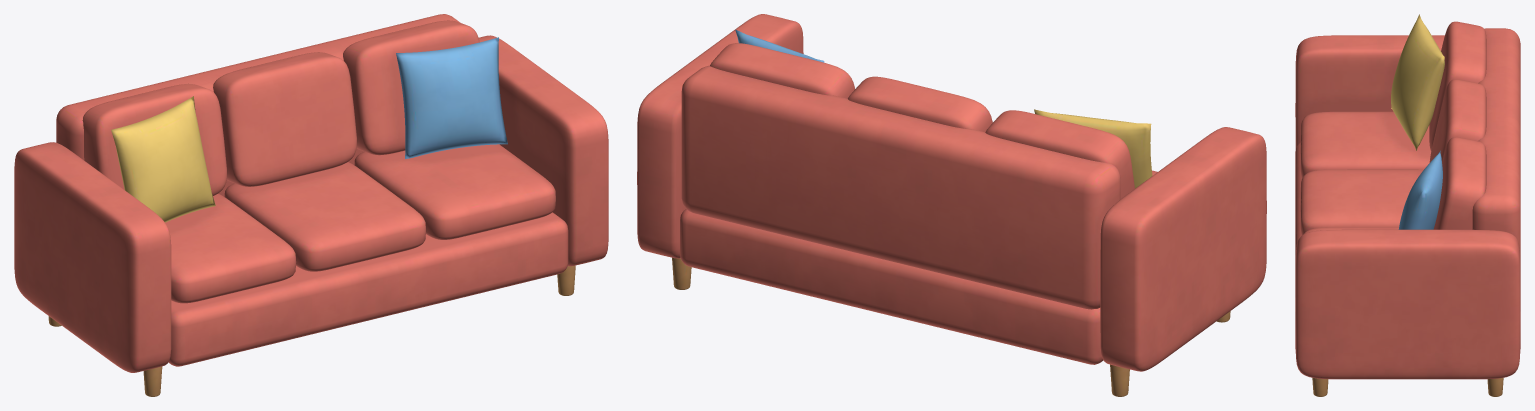
File: sofa.glb
3 views of the same model, side by side, from view 1: azimuth 30°, elevation 25°; view 2: azimuth 150°, elevation 25°; view 3: azimuth 270°, elevation 25° (orthographic). The views are drawn at different scales.
Visible parts, largest first — view 1: sofa_body; view 2: sofa_body; view 3: sofa_body.
Part boxes in pixels (box(x1,y1,x2,y2)): sofa_body: box(14, 14, 608, 396); sofa_body: box(637, 14, 1266, 396); sofa_body: box(1295, 14, 1520, 396).
Bounding box in the file's own units: 2.02 × 0.8944 × 0.9.
1 material, 1 textured.
